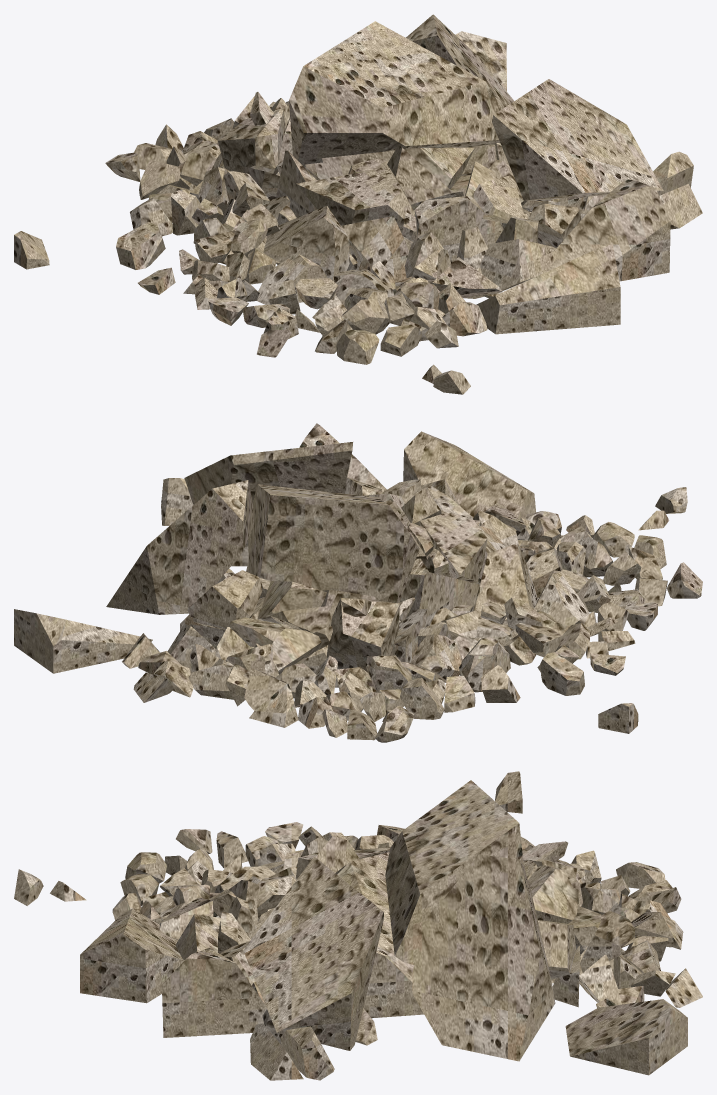
The model's file is rocks1.fbx.
The picture shows the model from 3 angles, top to bottom: view 1: azimuth 30°, elevation 25°; view 2: azimuth 150°, elevation 25°; view 3: azimuth 270°, elevation 25°; orthographic projection. The views are drawn at different scales.
Visible parts, largest first — view 1: Piece_4_9, Piece_3_9, Piece_2_9, Piece_1_10, Piece_2_5, Piece_0_5, Piece_5, Piece_7_4, Piece_3_5, Piece_4_5, Piece_1_9, Piece_5_8 (+47 smaller); view 2: Piece_4_9, Piece_1_9, Piece_3_9, Piece_2_9, Piece_0_9, Piece_5, Piece_2_5, Piece_8, Piece_0_5, Piece_7_8, Piece_7_5, Piece_12 (+64 smaller); view 3: Piece_1_9, Piece_3_9, Piece_4_9, Piece_1_10, Piece_0_9, Piece_2_9, Piece_2_8, Piece_12, Piece_5_8, Piece_2_4, Piece_1_4, Piece_8 (+38 smaller).
Boxes of the visible parts, x1,y1,x2,y2 form: Piece_4_9: [289, 21, 501, 165]; Piece_3_9: [492, 79, 663, 200]; Piece_2_9: [476, 242, 620, 334]; Piece_1_10: [544, 179, 670, 281]; Piece_2_5: [296, 168, 414, 233]; Piece_0_5: [263, 206, 349, 281]; Piece_5: [218, 109, 285, 174]; Piece_7_4: [480, 239, 559, 290]; Piece_3_5: [341, 216, 411, 282]; Piece_4_5: [414, 196, 484, 263]; Piece_1_9: [406, 14, 514, 108]; Piece_5_8: [322, 147, 474, 189]; Piece_4_9: [248, 484, 419, 603]; Piece_1_9: [106, 480, 254, 614]; Piece_3_9: [184, 442, 352, 546]; Piece_2_9: [403, 431, 535, 519]; Piece_0_9: [14, 609, 152, 673]; Piece_5: [326, 599, 399, 672]; Piece_2_5: [420, 512, 487, 582]; Piece_8: [187, 570, 262, 629]; Piece_0_5: [473, 544, 538, 619]; Piece_7_8: [406, 572, 479, 626]; Piece_7_5: [534, 570, 589, 626]; Piece_12: [258, 581, 326, 623]; Piece_1_9: [412, 854, 555, 1061]; Piece_3_9: [243, 856, 383, 1050]; Piece_4_9: [385, 780, 523, 964]; Piece_1_10: [162, 948, 266, 1037]; Piece_0_9: [565, 999, 687, 1075]; Piece_2_9: [80, 909, 184, 1003]; Piece_2_8: [363, 927, 423, 1018]; Piece_12: [528, 865, 577, 923]; Piece_5_8: [337, 852, 390, 919]; Piece_2_4: [280, 1026, 334, 1080]; Piece_1_4: [250, 1023, 303, 1080]; Piece_8: [537, 920, 575, 979].
Bounding box in the file's own units: 624 × 161 × 638.
1 material, 1 textured.
